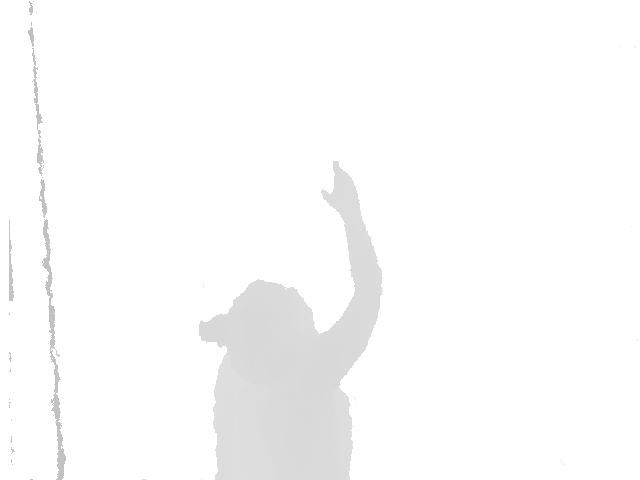hand: (320, 158, 364, 219)
head: (200, 278, 319, 366)
person: (201, 157, 384, 479)
